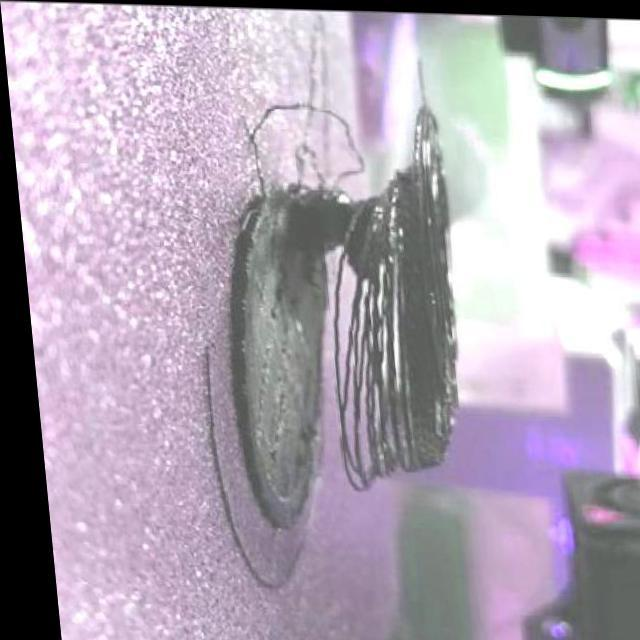spaghetti: (315, 196, 410, 491), (246, 97, 370, 197), (412, 49, 429, 102)
